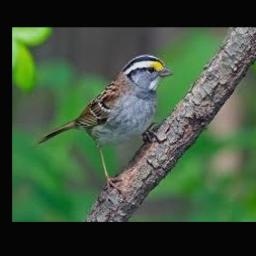Sparrow: (35, 54, 172, 194)
